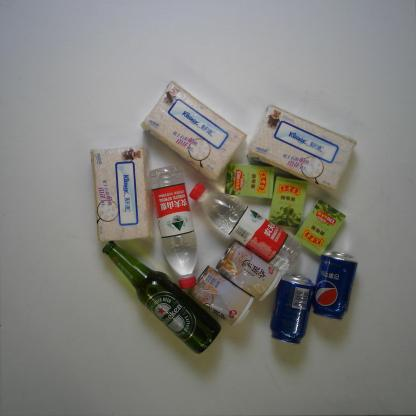Alcohol: (98, 237, 225, 356)
Candy: (290, 196, 349, 258), (265, 173, 312, 231), (222, 160, 278, 202)
Canned Food: (213, 238, 284, 304), (186, 264, 256, 329)
Drink: (187, 179, 305, 274), (144, 163, 200, 291), (268, 271, 318, 347), (310, 247, 360, 323)
Tissue: (138, 76, 249, 184), (244, 101, 360, 196), (84, 141, 159, 246)
